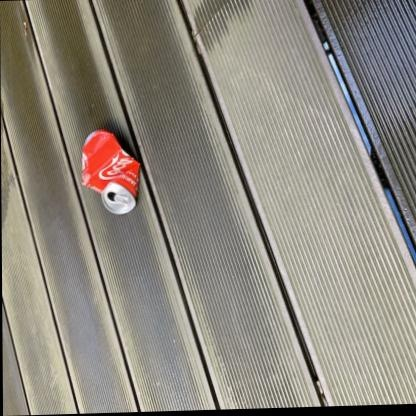trash: (82, 129, 139, 214)
